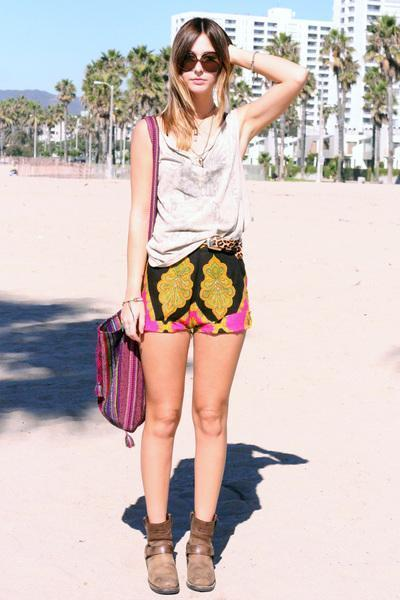bag: (93, 95, 174, 447)
shirt: (146, 109, 251, 265)
shoe: (144, 516, 216, 594)
skirt: (131, 239, 250, 350)
sunglass: (174, 36, 234, 78)
